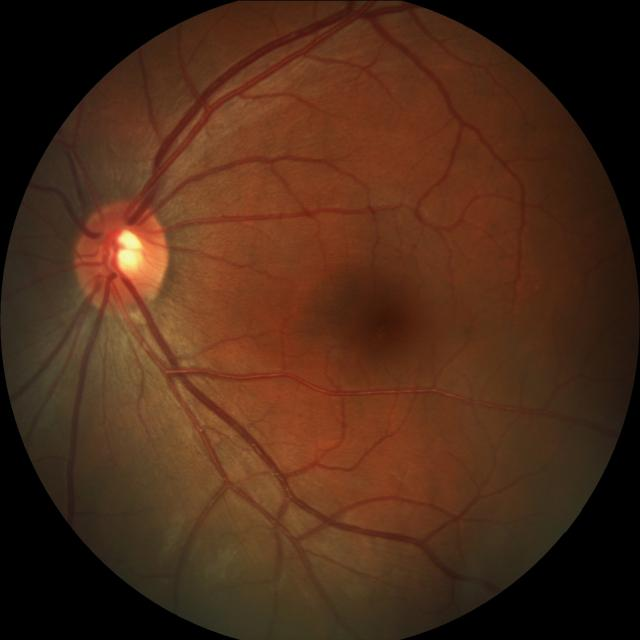OC: (100, 222, 146, 278)
OD: (72, 199, 168, 314)
